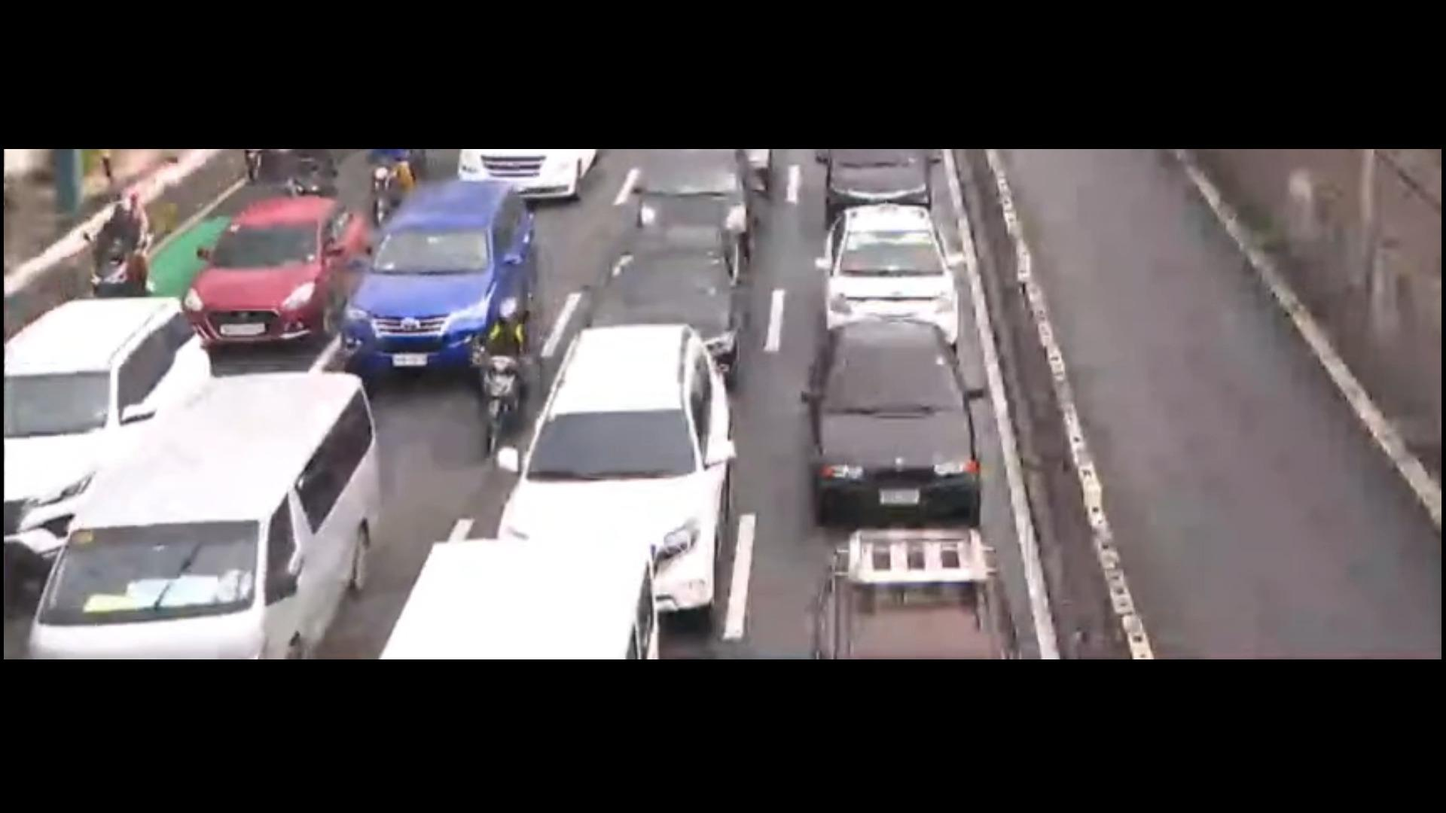Motorcycle: (451, 283, 552, 470), (72, 179, 181, 304)
SUV: (486, 333, 752, 619), (0, 290, 207, 586), (326, 177, 543, 393)
Sedan: (793, 315, 995, 523), (183, 187, 375, 354), (593, 211, 755, 348), (825, 194, 962, 340)
Van: (39, 365, 388, 660)
